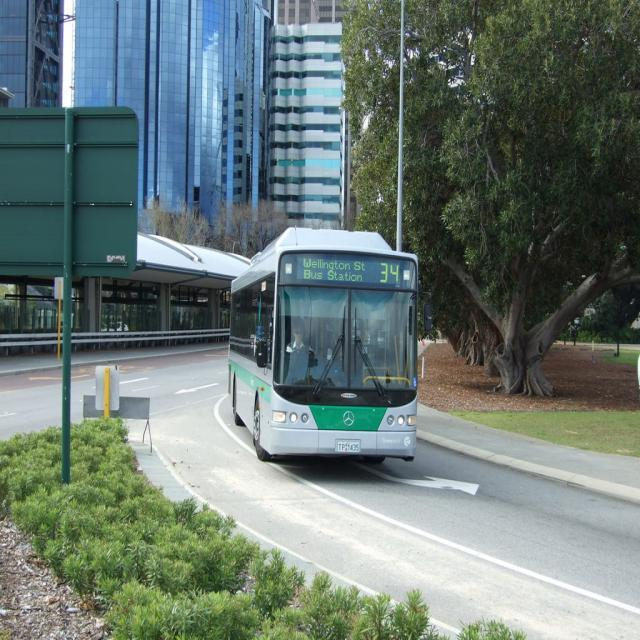motorcycle: (231, 222, 433, 460)
